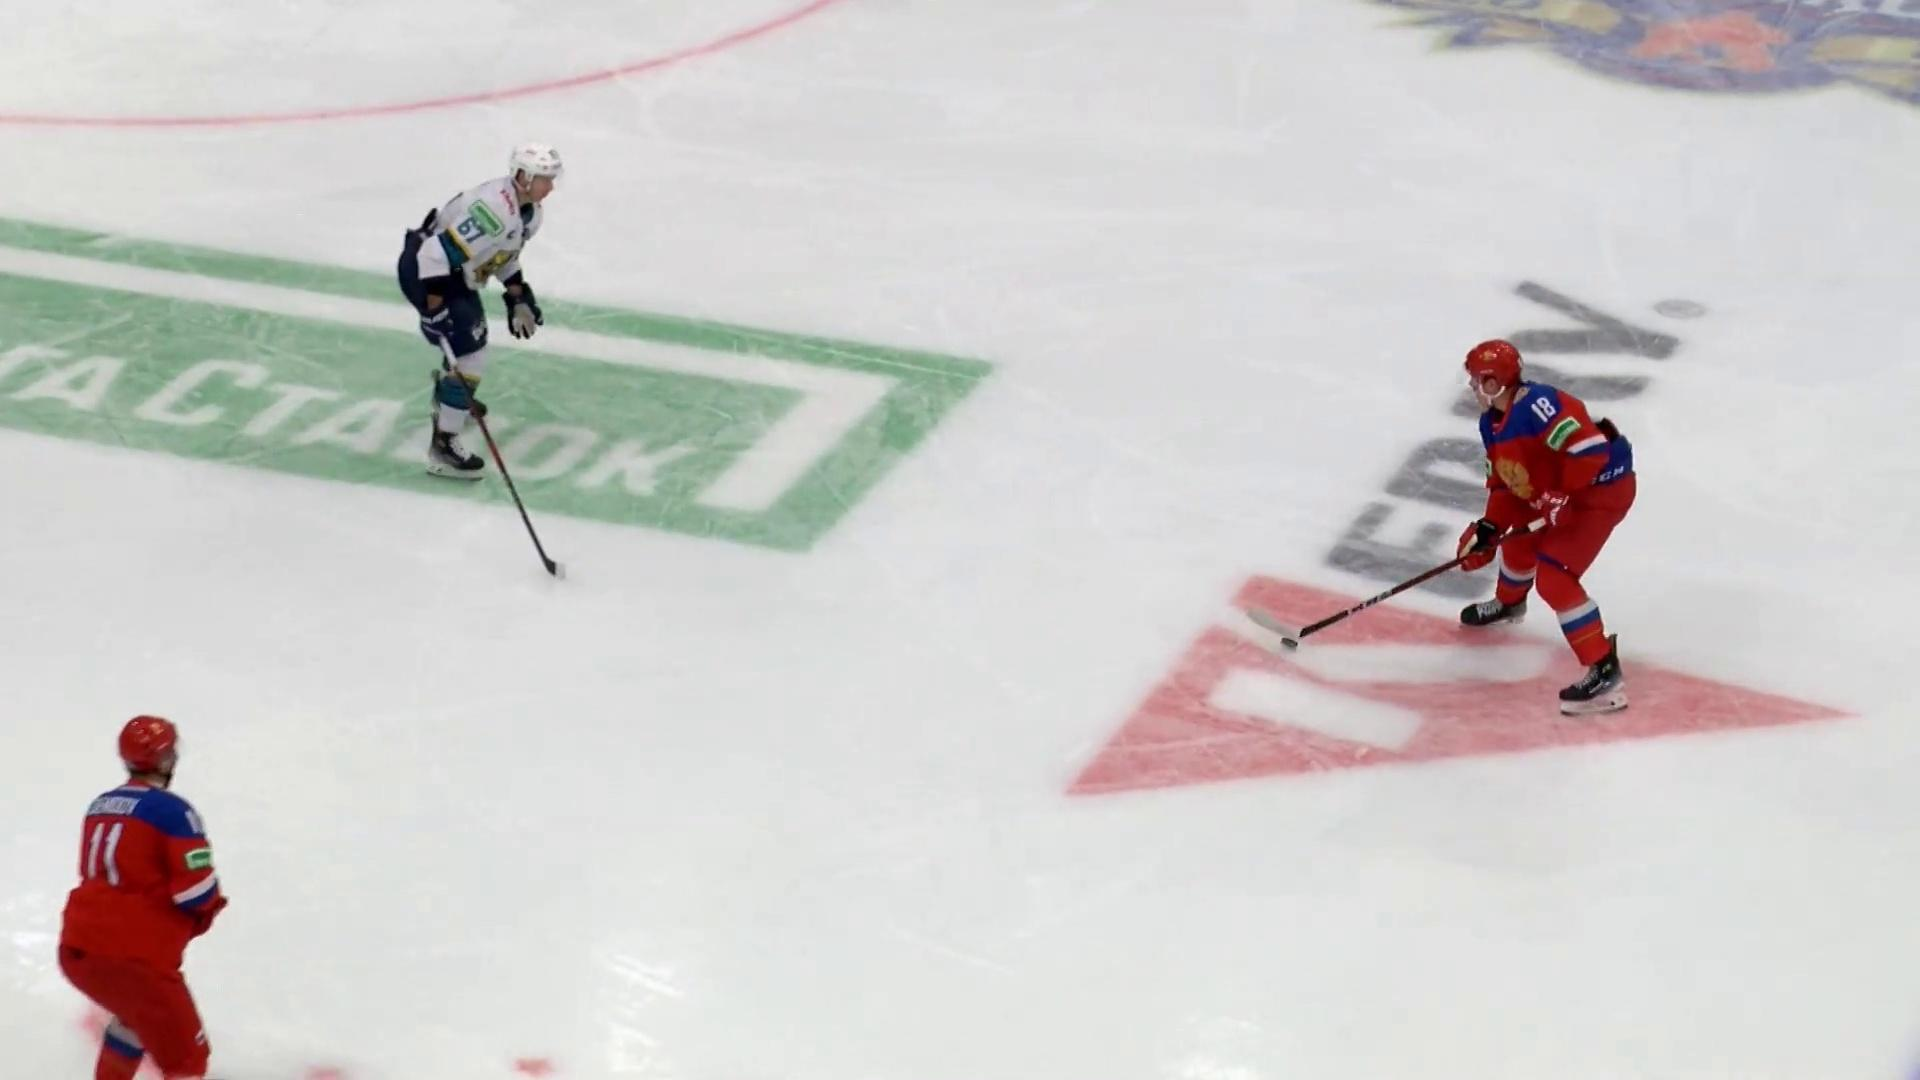ball: (1282, 637, 1300, 651)
